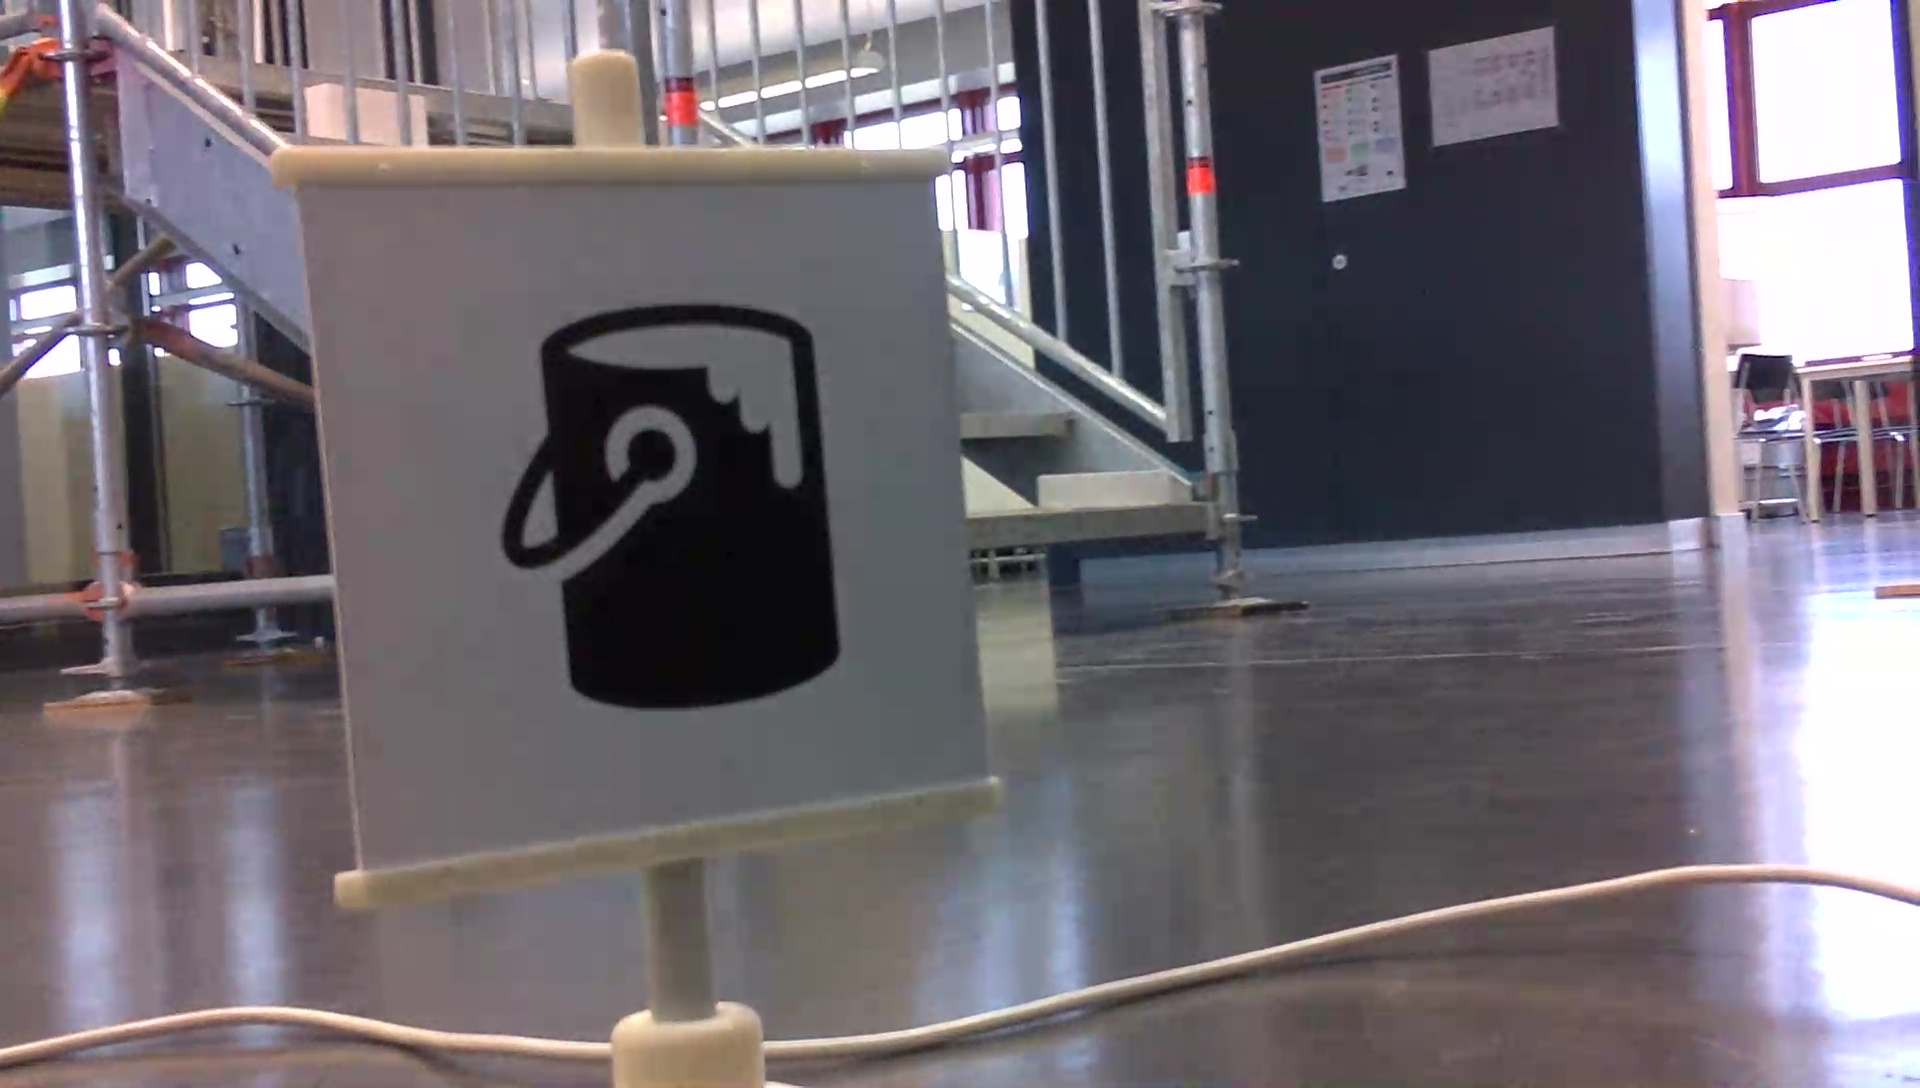brick: (1040, 472, 1167, 502)
bucket: (485, 295, 857, 723)
edge: (972, 506, 1207, 547), (957, 410, 1075, 437)
